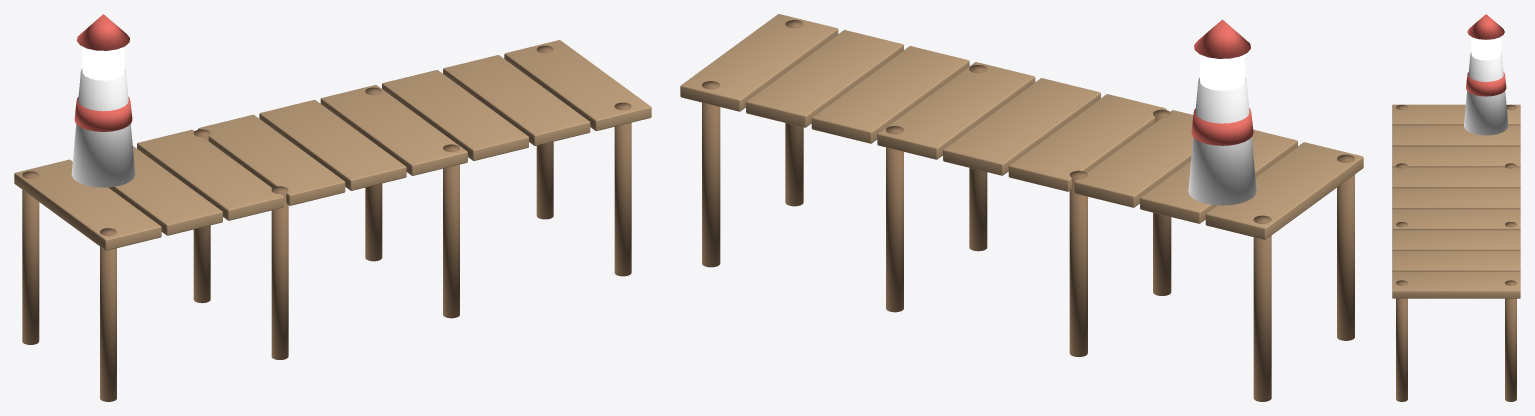
The model's file is Muelle.fbx.
3 views of the same model, side by side, from view 1: azimuth 30°, elevation 25°; view 2: azimuth 150°, elevation 25°; view 3: azimuth 270°, elevation 25° (orthographic). The views are drawn at different scales.
Parts seen in each view (by area): view 1: Muelle, Faro; view 2: Muelle, Faro; view 3: Muelle, Faro.
Boxes of the visible parts, x1,y1,x2,y2 form: Muelle: [14, 40, 651, 401]; Faro: [71, 14, 135, 187]; Muelle: [680, 14, 1363, 401]; Faro: [1188, 19, 1256, 205]; Muelle: [1392, 104, 1520, 401]; Faro: [1464, 14, 1508, 135].
Bounding box in the file's own units: 8.92 × 5.1 × 2.6.
